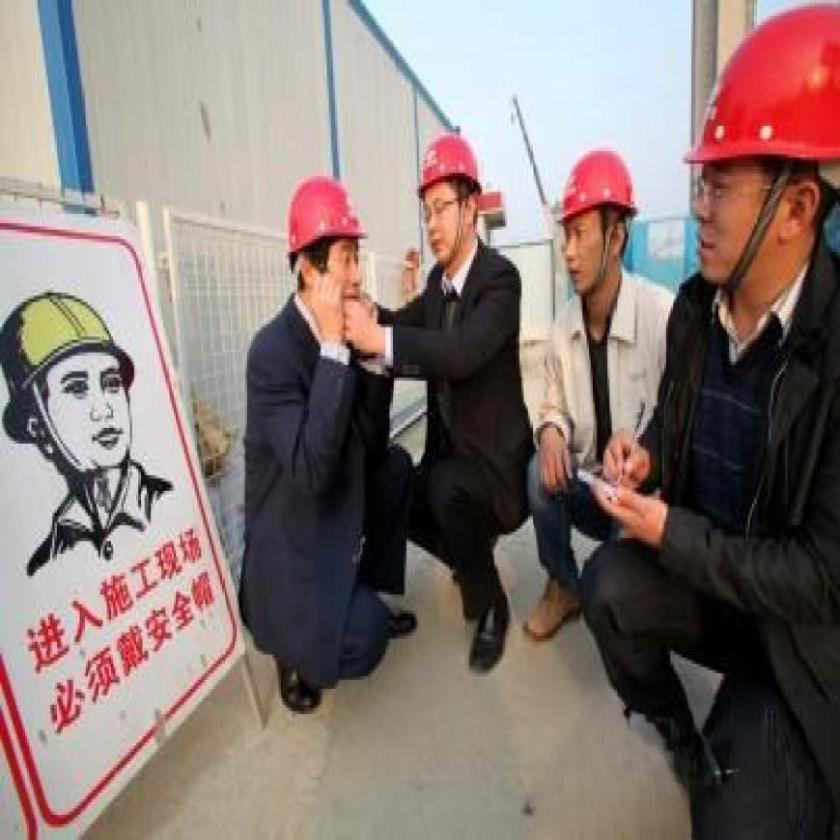Con_casco: (275, 172, 392, 324), (407, 121, 493, 278)
